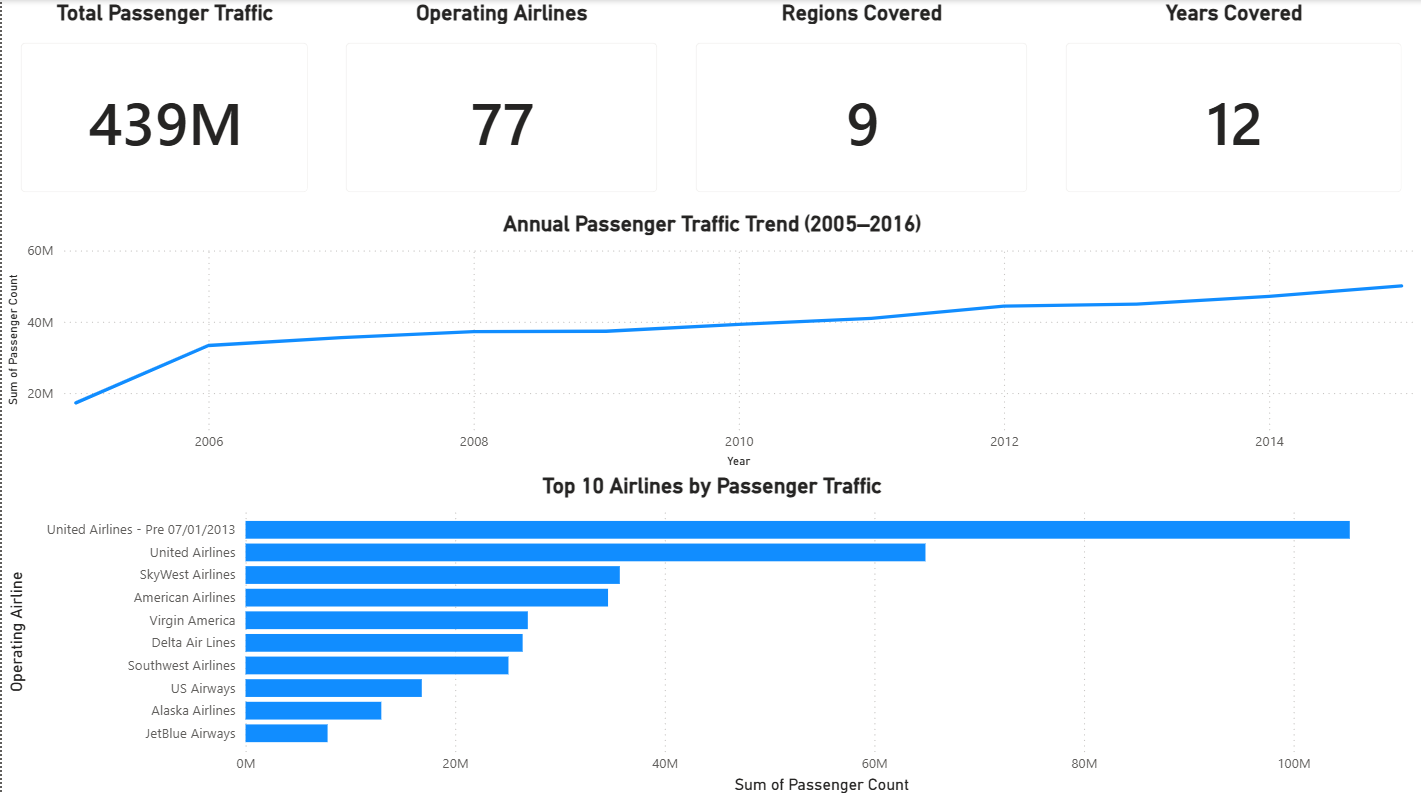

What the dashboard file says about the page in this screenshot:
{"tool":"powerbi","page":{"name":"Analysis","canvas":[1280,720],"ordinal":1},"visuals":[{"type":"cardVisual","title":"Total Passenger Traffic","fields":{"Data":["Sum(Air_Traffic_Passenger_Statistics.Passenger Count)"]},"box":[0,0,293.5,190.8],"z":0},{"type":"cardVisual","title":"Operating Airlines","fields":{"Data":["Count(Air_Traffic_Passenger_Statistics.Operating Airline)"]},"box":[293.5,0,315.5,190.8],"z":1},{"type":"cardVisual","title":"Regions Covered","fields":{"Data":["Count(Air_Traffic_Passenger_Statistics.GEO Region)"]},"box":[609,0,333.8,190.8],"z":2},{"type":"cardVisual","title":"Years Covered","fields":{"Data":["Count(Air_Traffic_Passenger_Statistics.Year)"]},"box":[942.8,0,337.5,190.8],"z":3},{"type":"lineChart","title":"Annual Passenger Traffic Trend (2005–2016)","fields":{"Category":["Air_Traffic_Passenger_Statistics.Year"],"Y":["Sum(Air_Traffic_Passenger_Statistics.Passenger Count)"]},"box":[0,190.8,1280.3,236],"z":4},{"type":"clusteredBarChart","title":"Top 10 Airlines by Passenger Traffic","fields":{"Y":["Sum(Air_Traffic_Passenger_Statistics.Passenger Count)"],"Category":["Air_Traffic_Passenger_Statistics.Operating Airline"]},"box":[0,426.8,1280.3,293.5],"z":5}]}

Visuals, with their boxes in screenshot pixels (x1, y1, x2, y2), scaled from the page's 1280x720 canvas onto the 1421x793 screenshot:
"Total Passenger Traffic" cardVisual: x1=0 y1=0 x2=326 y2=210
"Operating Airlines" cardVisual: x1=326 y1=0 x2=676 y2=210
"Regions Covered" cardVisual: x1=676 y1=0 x2=1047 y2=210
"Years Covered" cardVisual: x1=1047 y1=0 x2=1420 y2=210
"Annual Passenger Traffic Trend (2005–2016)" lineChart: x1=0 y1=210 x2=1420 y2=470
"Top 10 Airlines by Passenger Traffic" clusteredBarChart: x1=0 y1=470 x2=1420 y2=792
